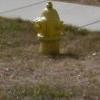Hydrant: (30, 1, 74, 56)
